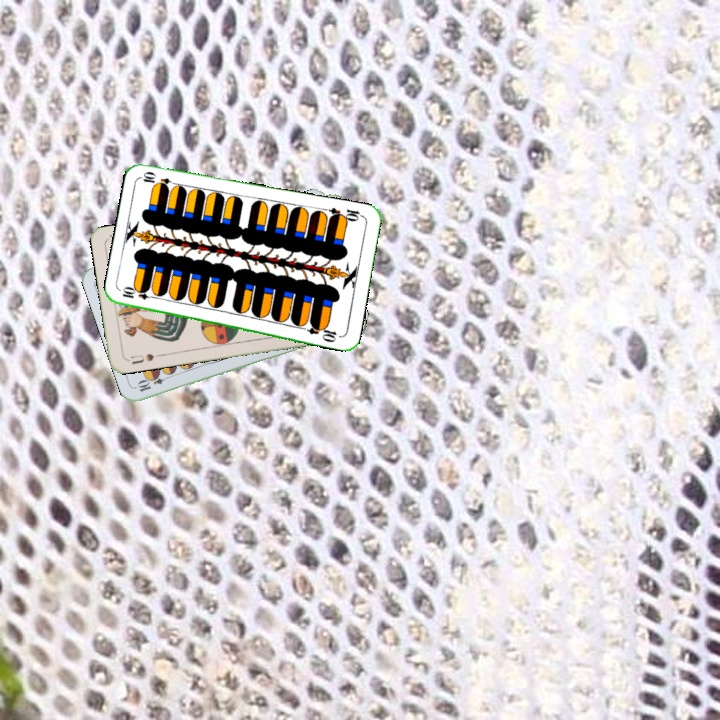E10: (133, 370, 173, 394), (325, 203, 365, 224), (118, 286, 159, 302)
SU: (127, 350, 164, 367)
